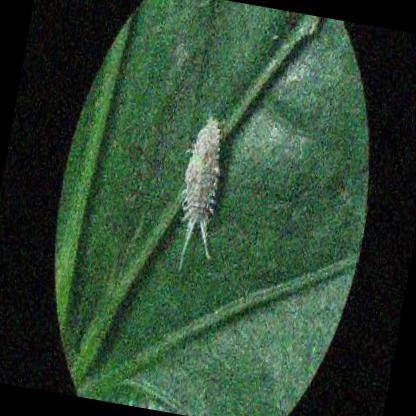mealy bug: (177, 118, 221, 273)
